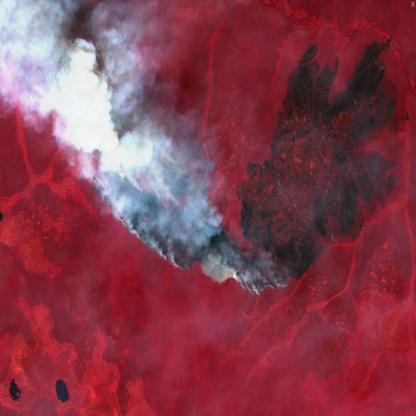fire: (89, 147, 291, 297)
